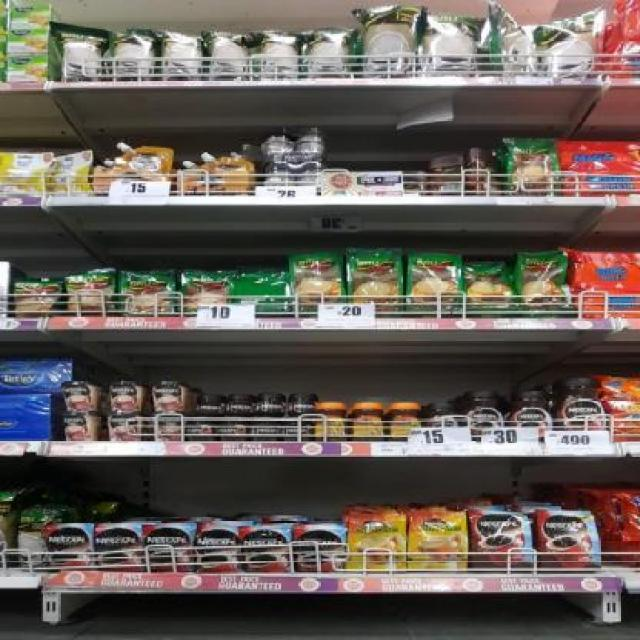Coffee: (471, 514, 532, 574), (539, 514, 598, 572), (411, 514, 466, 572), (350, 515, 405, 571), (558, 378, 607, 432), (141, 524, 193, 570), (468, 391, 510, 442), (46, 524, 94, 568), (242, 527, 290, 571), (513, 392, 556, 439), (95, 525, 140, 569), (297, 526, 341, 571), (194, 526, 234, 570), (313, 403, 345, 442), (428, 404, 463, 439), (389, 403, 420, 440), (353, 403, 382, 440), (193, 396, 224, 416), (292, 394, 316, 417), (258, 394, 282, 415), (226, 395, 252, 414), (186, 419, 212, 438), (248, 423, 278, 439), (216, 422, 244, 438), (281, 424, 308, 440)
